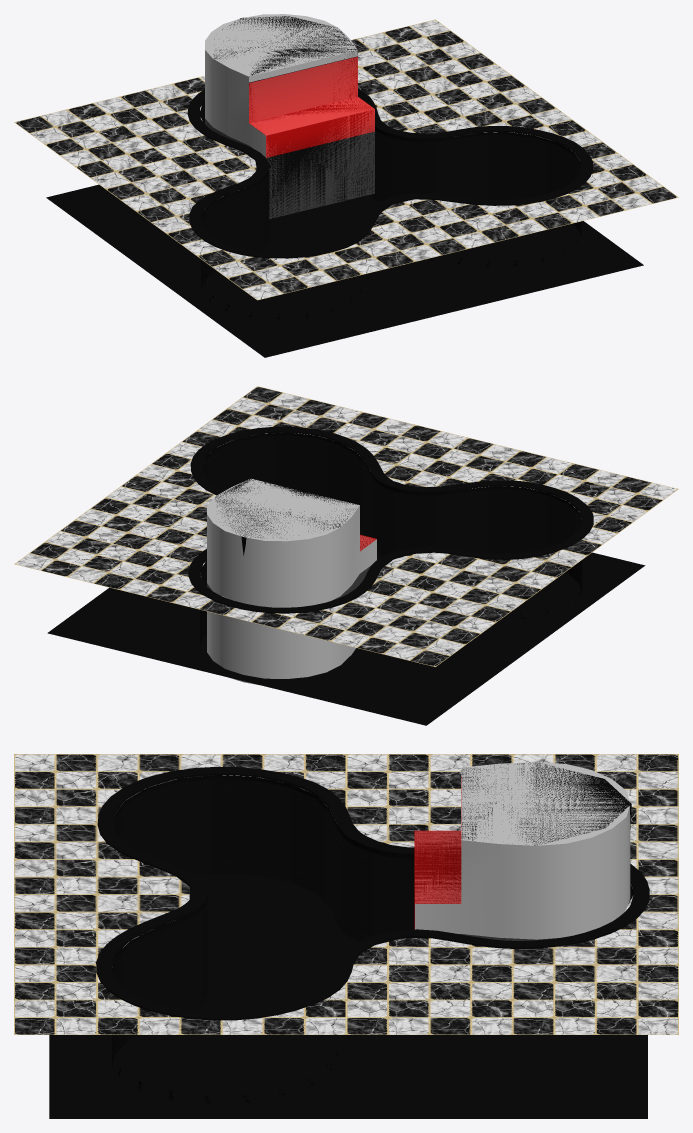
The model's file is Circle_Side_Pool.fbx.
The picture shows the model from 3 angles, top to bottom: view 1: azimuth 30°, elevation 25°; view 2: azimuth 150°, elevation 25°; view 3: azimuth 270°, elevation 25°; orthographic projection. The views are drawn at different scales.
Parts seen in each view (by area): view 1: Pool, Pool_L0, Water_Stone; view 2: Pool, Pool_L0, Water_Stone; view 3: Pool, Pool_L0, Water_Stone.
Part boxes in pixels (bbox=[...]): Pool: bbox=[14, 19, 678, 357]; Pool_L0: bbox=[17, 16, 673, 337]; Water_Stone: bbox=[205, 14, 374, 218]; Pool: bbox=[15, 386, 678, 725]; Pool_L0: bbox=[14, 386, 623, 666]; Water_Stone: bbox=[207, 478, 376, 684]; Pool: bbox=[14, 754, 678, 1118]; Pool_L0: bbox=[14, 754, 678, 1099]; Water_Stone: bbox=[415, 762, 630, 940].
Size of the model in its own units: 48 by 15.8 by 48.
